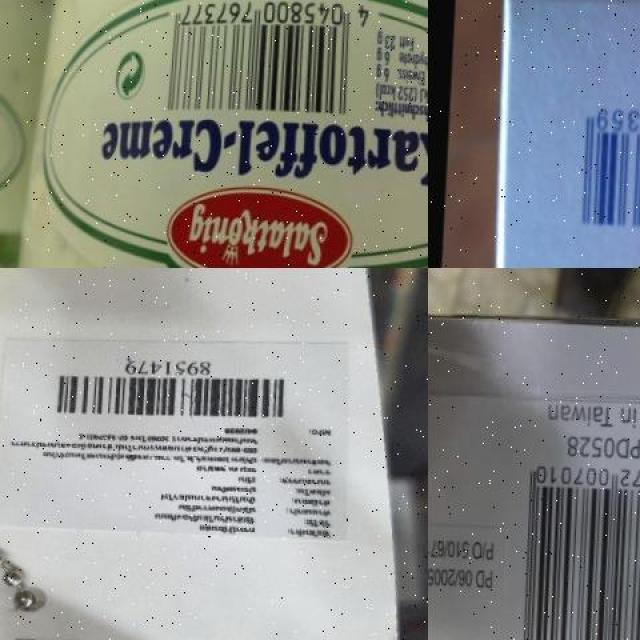Barcode: (155, 0, 376, 120), (509, 454, 639, 640), (41, 350, 300, 425), (566, 85, 640, 243)
